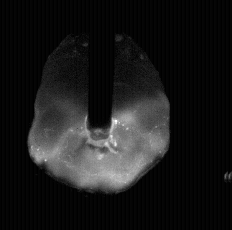arame: (89, 0, 114, 129)
poca: (26, 0, 171, 230)
